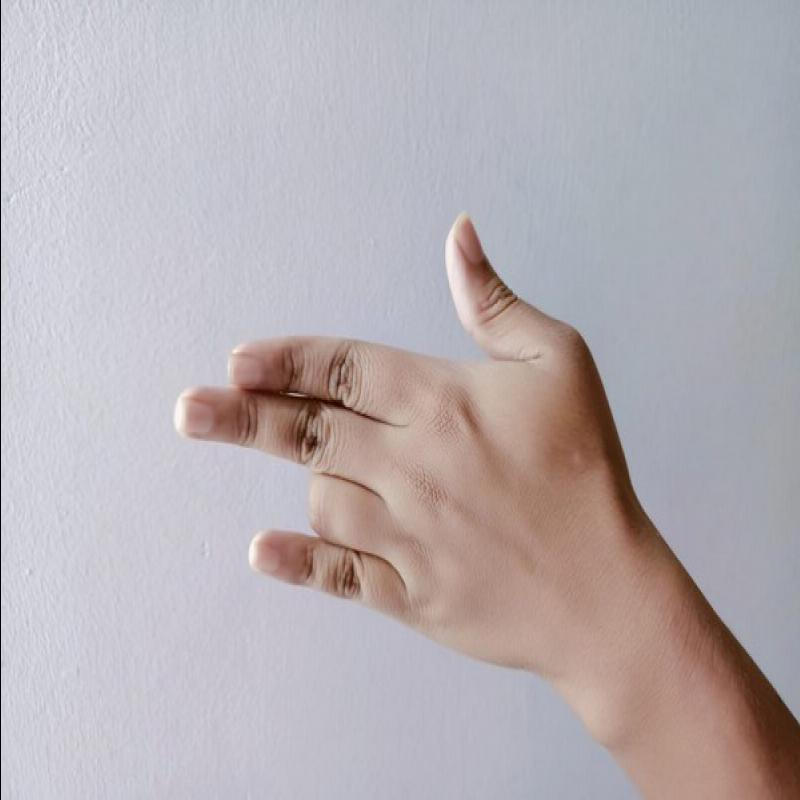Pathaaka: (168, 201, 625, 664)
